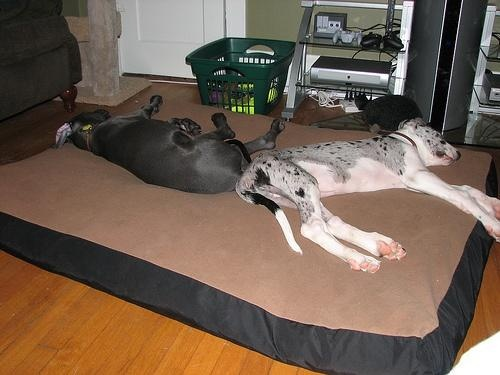dog: (236, 117, 500, 274), (51, 94, 285, 195)
sofa: (1, 1, 83, 121)
